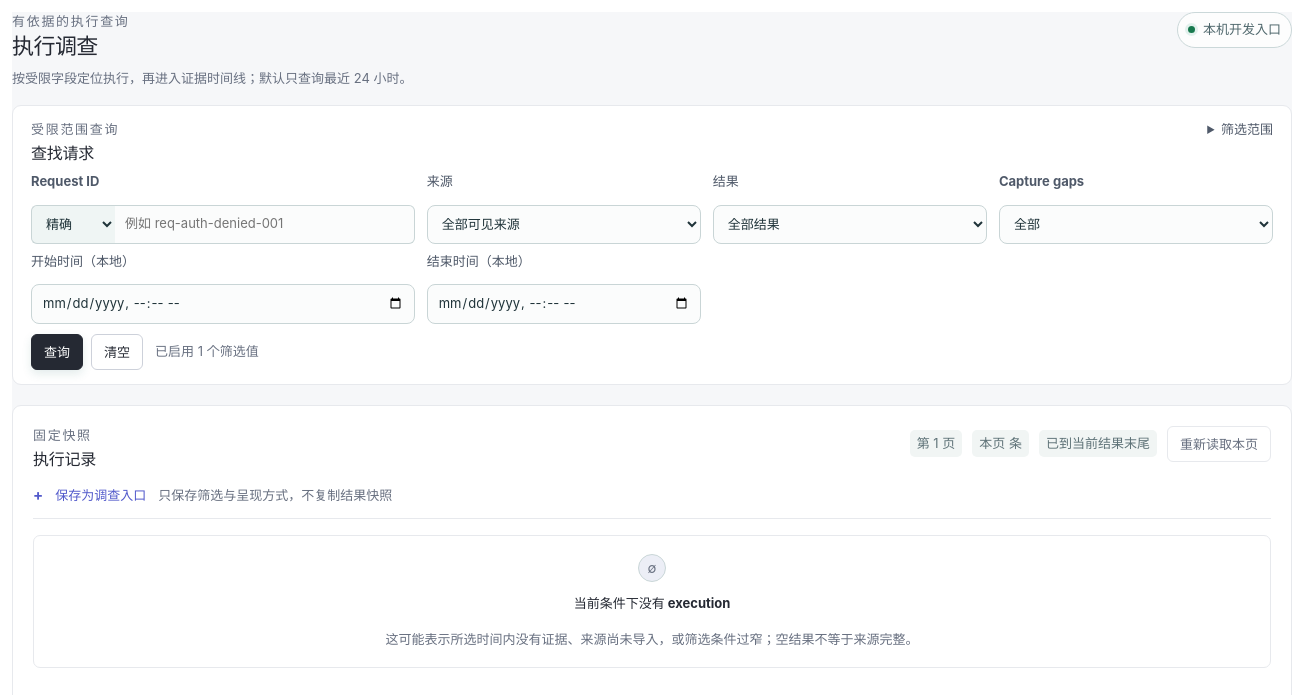
Test: preserves legacy saving and hides it when the current session loses its write permission
Click the text "保存为调查入口" at point(101, 496), box [55,486,146,506]
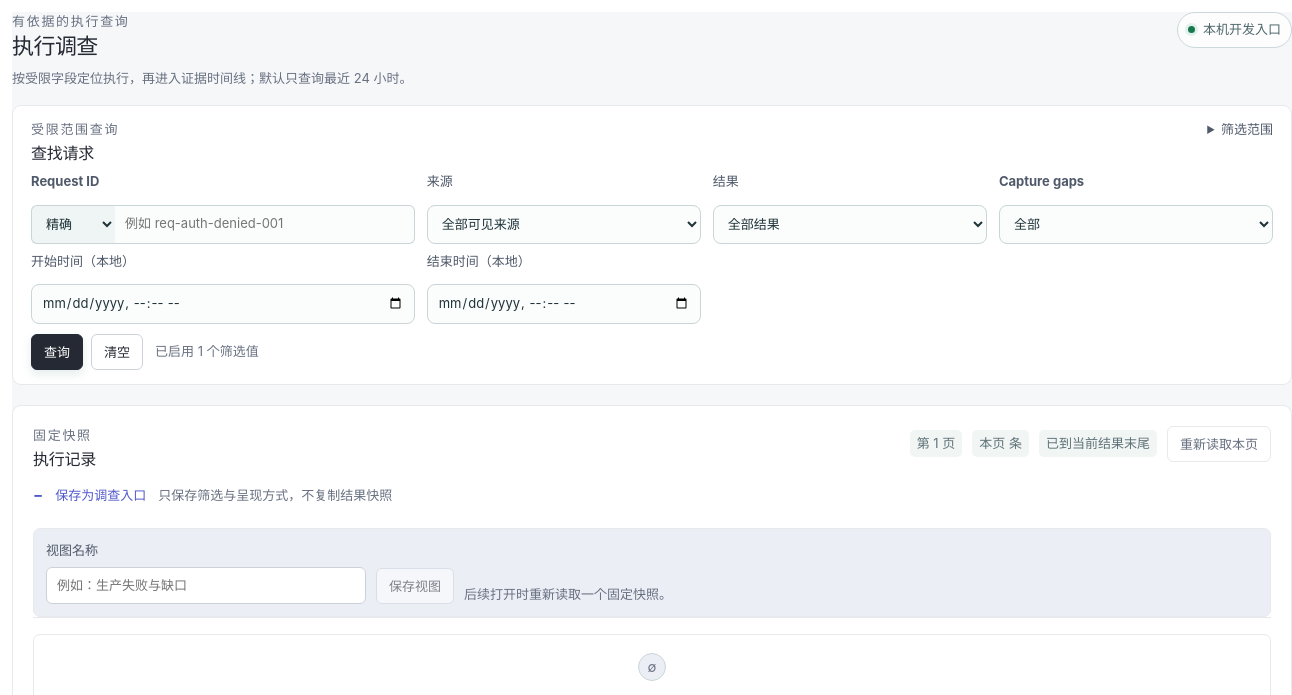
Type "my view" into the field labelled "视图名称" at point(206, 586), box [46,567,366,604]
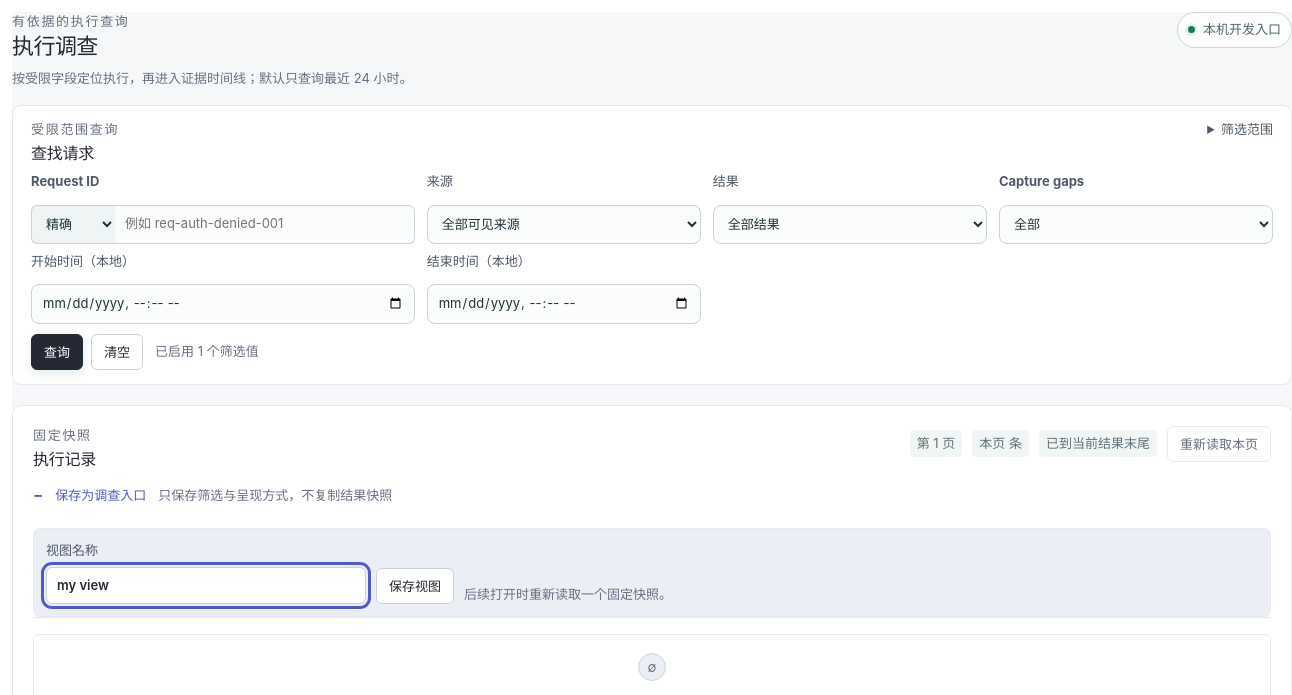
Click the button "保存视图" at point(415, 586), box [376,568,454,604]
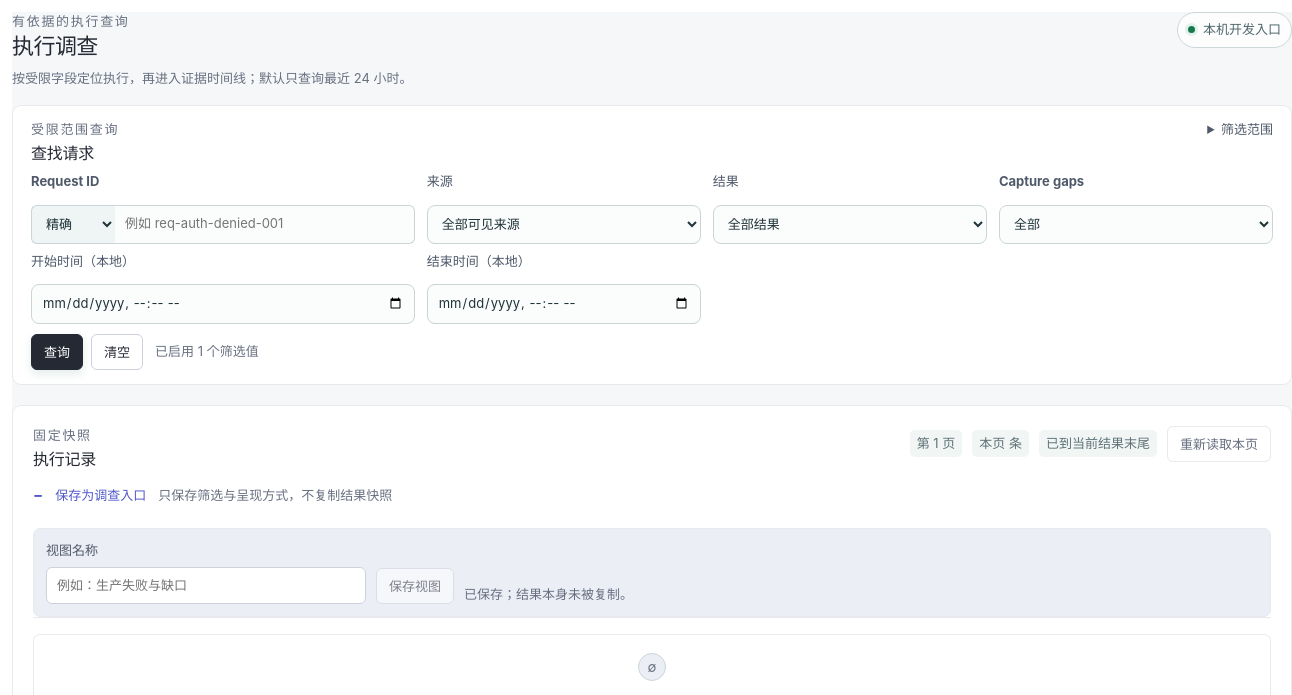
Expected: the text "已保存；结果本身未被复制。" is shown, [464,585,633,604]
